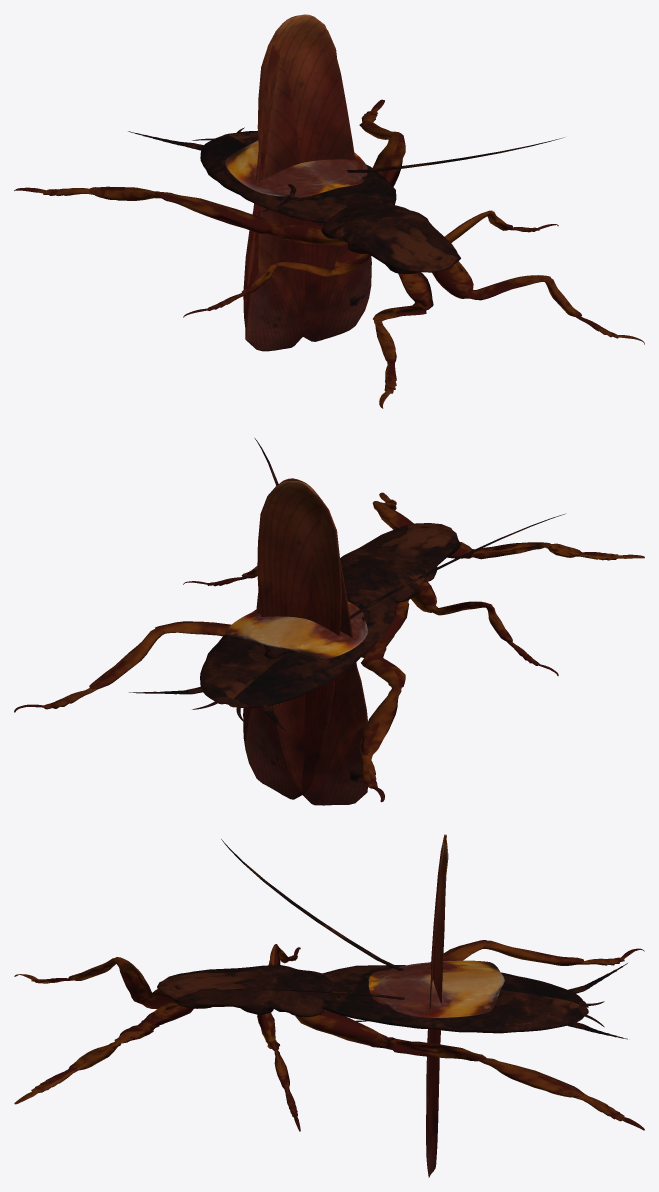
Rendered from cockroach.glb.
The picture shows the model from 3 angles, top to bottom: view 1: azimuth 30°, elevation 25°; view 2: azimuth 150°, elevation 25°; view 3: azimuth 270°, elevation 25°; orthographic projection.
Visible parts, largest first — view 1: exoskeleton, wing-left, wing-right, pronotum, head; view 2: exoskeleton, wing-right, wing-left, pronotum, head; view 3: exoskeleton, pronotum, wing-right, wing-left, head.
Boxes of the visible parts, bbox=[...] form: exoskeleton: bbox=[14, 99, 644, 408]; wing-left: bbox=[257, 14, 371, 341]; wing-right: bbox=[243, 15, 336, 351]; pronotum: bbox=[225, 140, 367, 197]; head: bbox=[255, 137, 564, 225]; exoskeleton: bbox=[14, 492, 644, 802]; wing-right: bbox=[257, 480, 367, 805]; wing-left: bbox=[243, 478, 341, 799]; pronotum: bbox=[225, 602, 367, 658]; head: bbox=[254, 438, 565, 658]; exoskeleton: bbox=[14, 940, 644, 1131]; pronotum: bbox=[368, 960, 504, 1017]; wing-right: bbox=[426, 834, 448, 1152]; wing-left: bbox=[426, 834, 445, 1177]; head: bbox=[221, 839, 503, 1021].
Bounding box in the file's own units: 9.09 × 7.55 × 13.26.
1 material, 1 textured.
